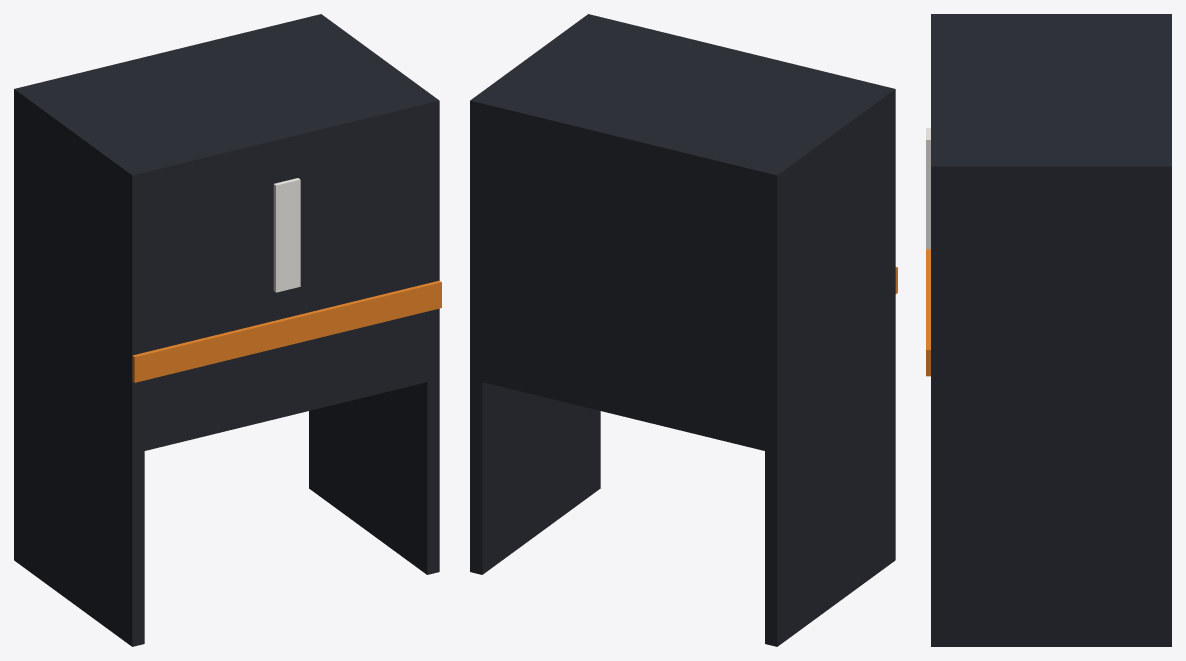
File: pin_setter.glb
3 renders of one model, left to right at view 1: azimuth 30°, elevation 25°; view 2: azimuth 150°, elevation 25°; view 3: azimuth 270°, elevation 25°, orthographic.
Parts seen in each view (by area): view 1: hood_setter_dark, side_setter_dark, stripe_setter_orange, mark_setter_pin; view 2: hood_setter_dark, side_setter_dark; view 3: hood_setter_dark, side_setter_dark, stripe_setter_orange, mark_setter_pin.
Boxes of the visible parts, box(x1,y1,x2,y2) form: hood_setter_dark: box(14, 14, 439, 453); side_setter_dark: box(14, 368, 439, 646); stripe_setter_orange: box(132, 280, 441, 382); mark_setter_pin: box(273, 178, 300, 292); hood_setter_dark: box(470, 14, 895, 453); side_setter_dark: box(470, 367, 895, 646); hood_setter_dark: box(931, 14, 1171, 450); side_setter_dark: box(931, 450, 1171, 646); stripe_setter_orange: box(926, 249, 930, 376); mark_setter_pin: box(926, 128, 930, 249).
Bounding box in the file's own units: 1.5 × 2.2 × 1.02.
